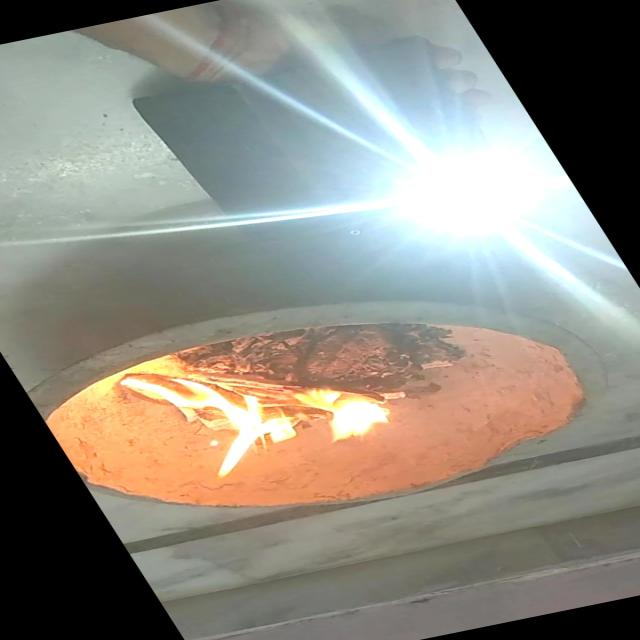fire: (142, 354, 411, 486)
